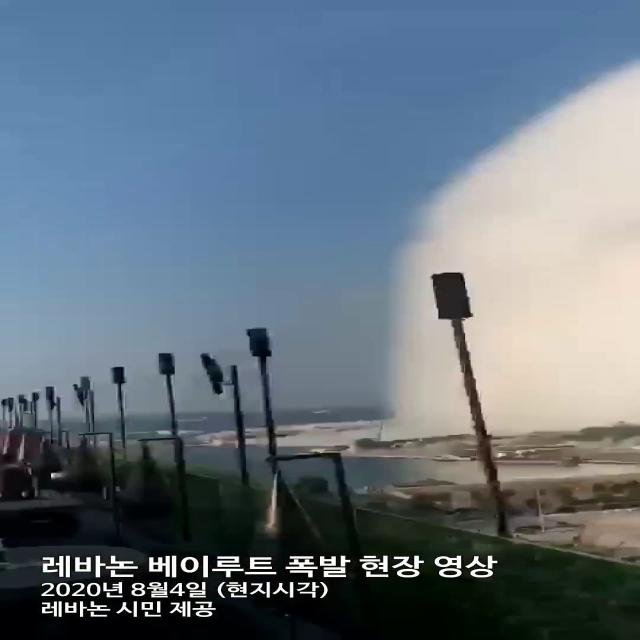explosion: (298, 53, 640, 481)
